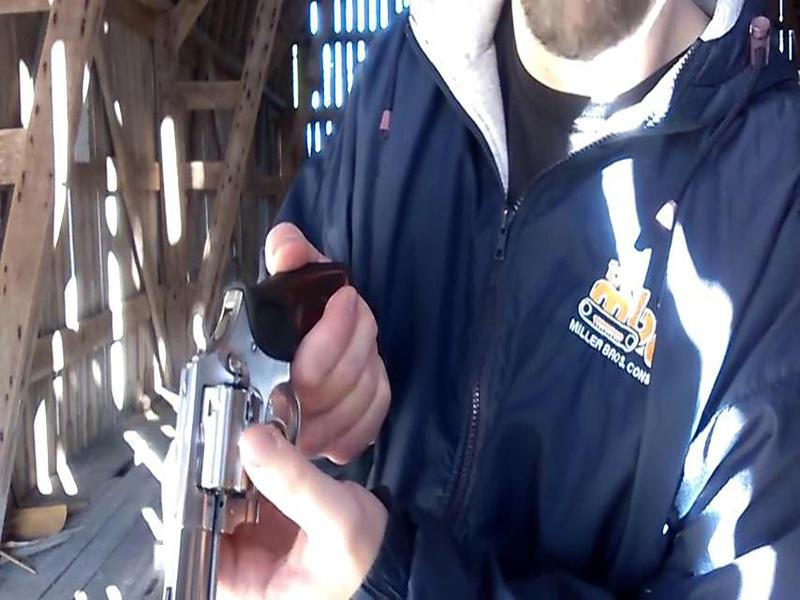Revolver: (118, 257, 357, 600)
